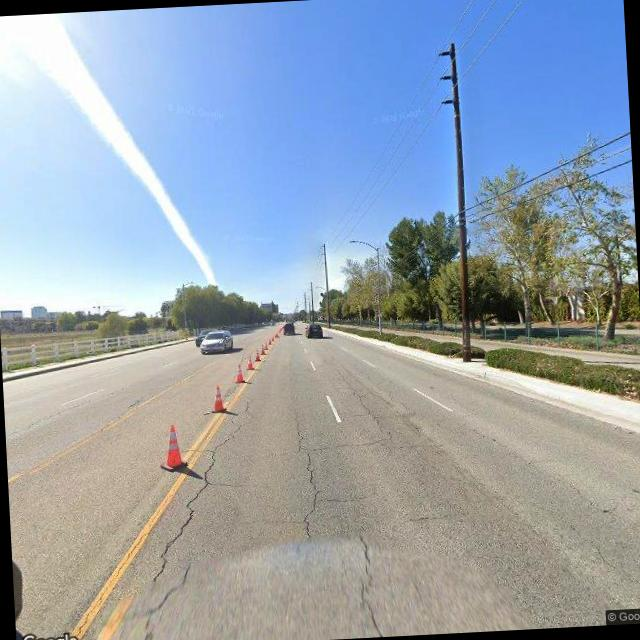pothole: (130, 399, 260, 627), (286, 412, 324, 538), (350, 532, 390, 638), (335, 364, 386, 436)
